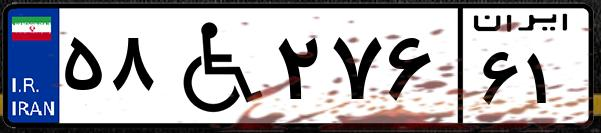1: (525, 38, 570, 115)
2: (270, 28, 330, 110)
5: (57, 26, 110, 100)
6: (385, 28, 445, 110), (475, 38, 525, 113)
7: (330, 28, 385, 110)
8: (110, 28, 158, 98)
ژ (معلولین و جانبازان): (158, 12, 270, 120)
